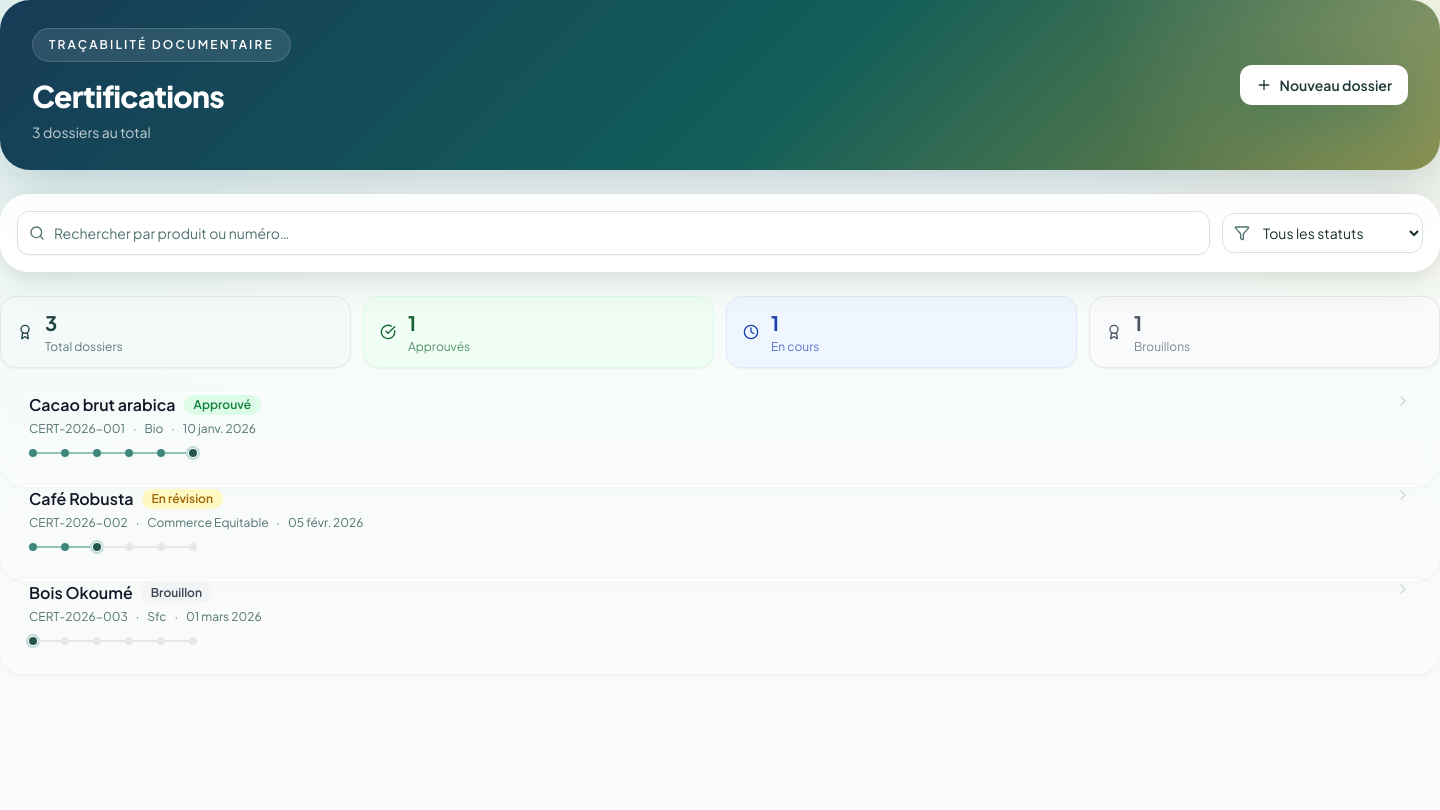
Test: CertificationListPage — status filter › filters by approved status
Expected: the text "Cacao brut arabica" is shown, 29,393 -> 176,417
Select "approved" in the dropdown at (1322, 233), box 1222,213 -> 1423,253
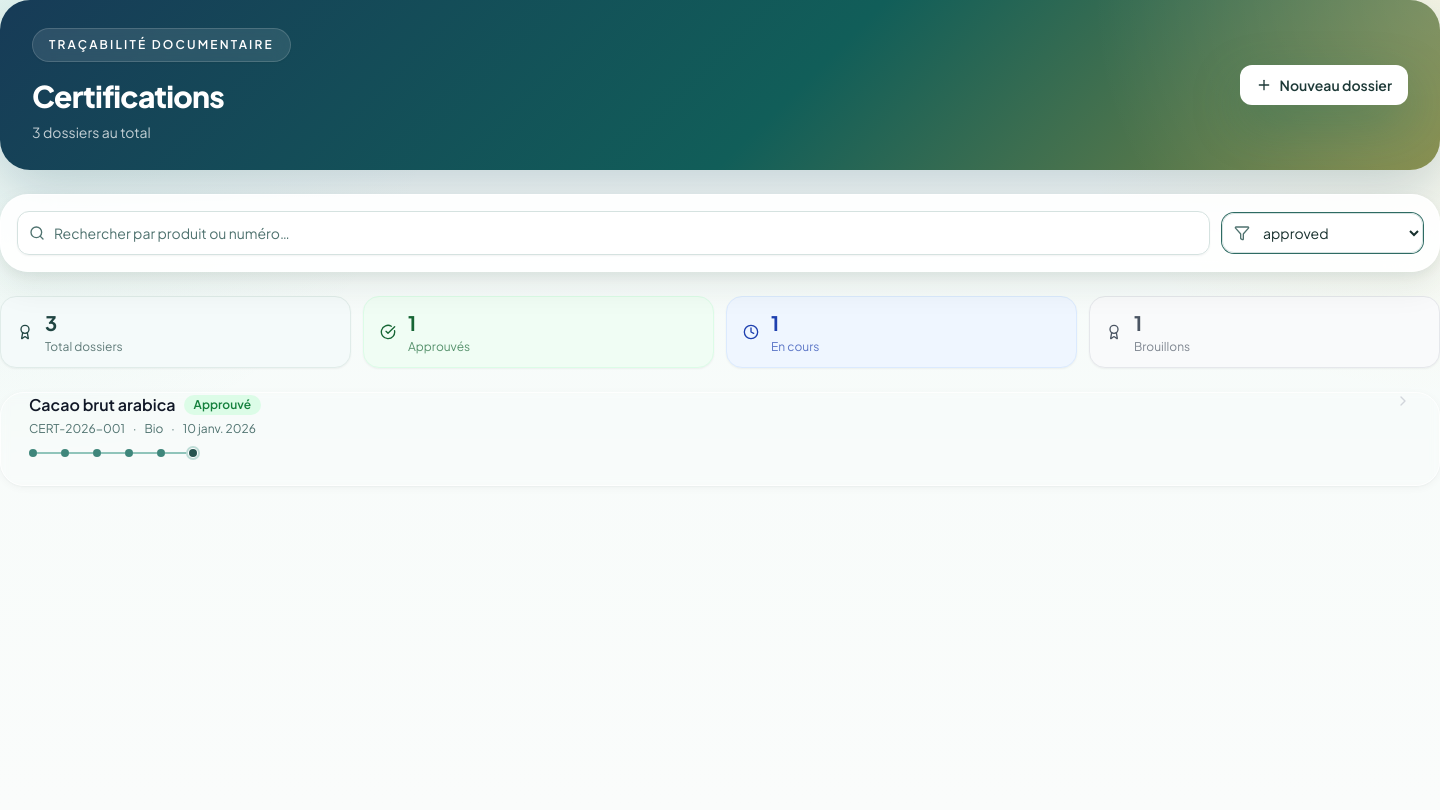
Expected: the text "Cacao brut arabica" is shown, 29,393 -> 176,417
Now the link "Café Robusta" is gone
